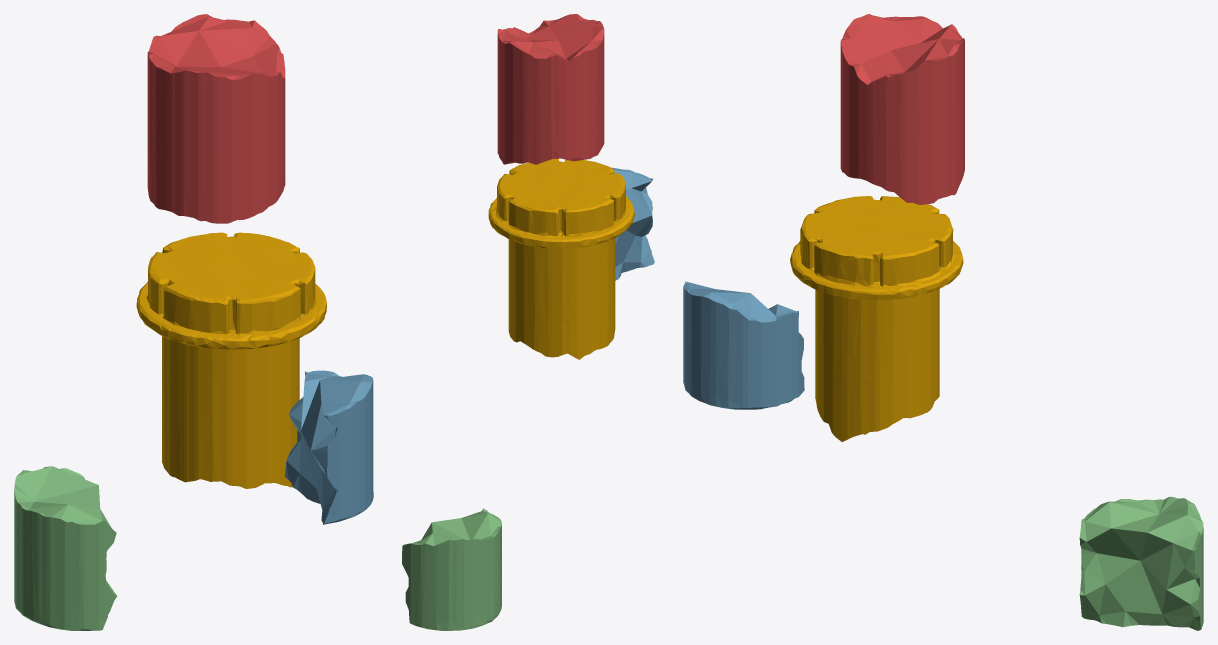
The model's file is fractured_43_4pcs_transformed.glb.
3 renders of one model, left to right at view 1: azimuth 30°, elevation 25°; view 2: azimuth 150°, elevation 25°; view 3: azimuth 270°, elevation 25°, orthographic. The views are drawn at different scales.
Parts seen in each view (by area): view 1: piece_0.obj, piece_1.obj, piece_3.obj, piece_2.obj; view 2: piece_0.obj, piece_1.obj, piece_3.obj, piece_2.obj; view 3: piece_0.obj, piece_1.obj, piece_3.obj, piece_2.obj.
Boxes of the visible parts, x1,y1,x2,y2 form: piece_0.obj: [136, 232, 326, 488]; piece_1.obj: [147, 14, 285, 223]; piece_3.obj: [14, 466, 116, 630]; piece_2.obj: [285, 370, 373, 524]; piece_0.obj: [488, 158, 634, 359]; piece_1.obj: [497, 14, 604, 164]; piece_3.obj: [402, 508, 501, 630]; piece_2.obj: [611, 167, 654, 280]; piece_0.obj: [790, 196, 963, 441]; piece_1.obj: [840, 14, 964, 204]; piece_3.obj: [1079, 496, 1203, 630]; piece_2.obj: [683, 281, 804, 409].
Bounding box in the file's own units: 0.3863 × 1.48 × 1.18.
